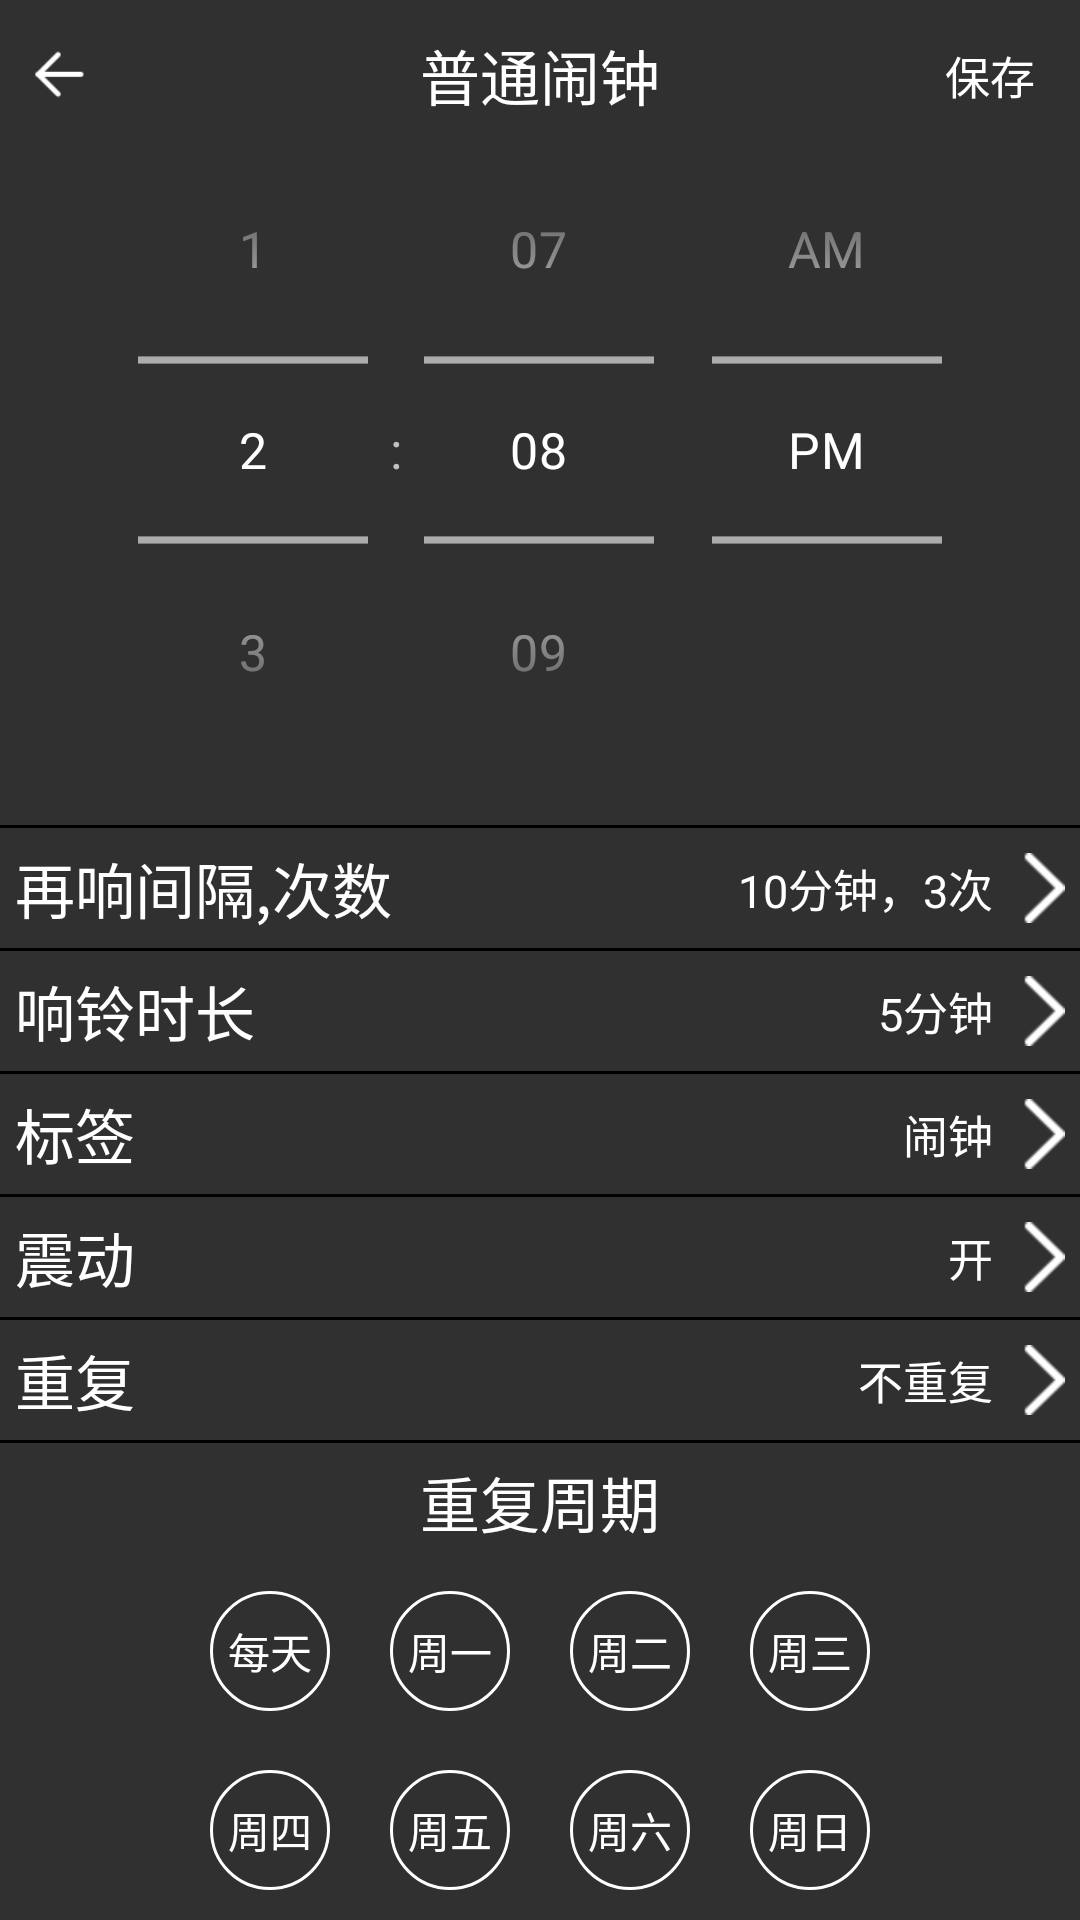

Icon click points for this 1080×1920 phone screenshot, format (x=x, y=y):
arr right: (x=1044, y=888), (x=1044, y=1011), (x=1044, y=1134), (x=1044, y=1257), (x=1044, y=1380)
back bt: (x=59, y=74)
